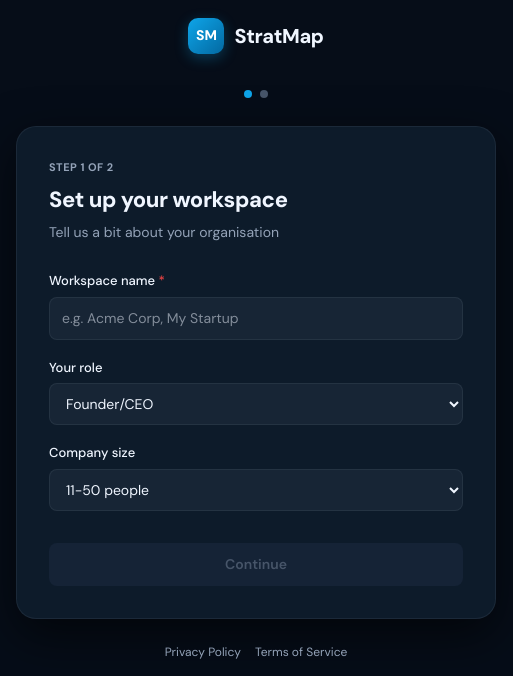
Test: OnboardingPage — Step 1 › Continue button enables when workspace name is filled
Type "Acme Corp" into the field with test id "workspace-name" at x=256, y=318, box top-left (49, 296), bottom-right (463, 340)
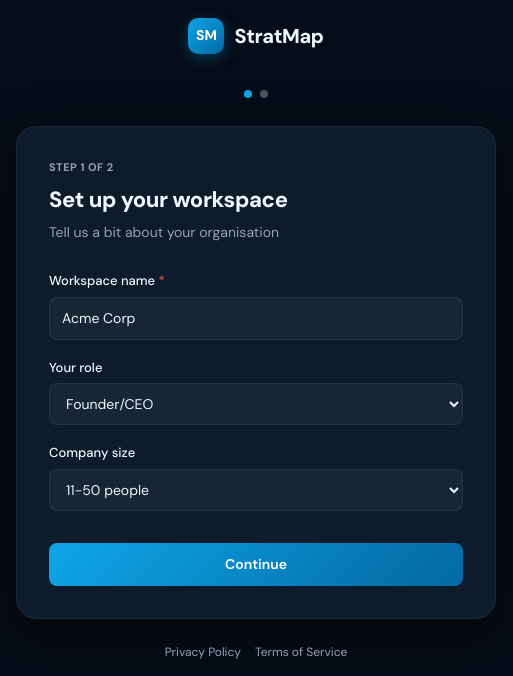
Expected: the button with test id "continue-btn" is enabled, top-left (49, 542), bottom-right (463, 586)
